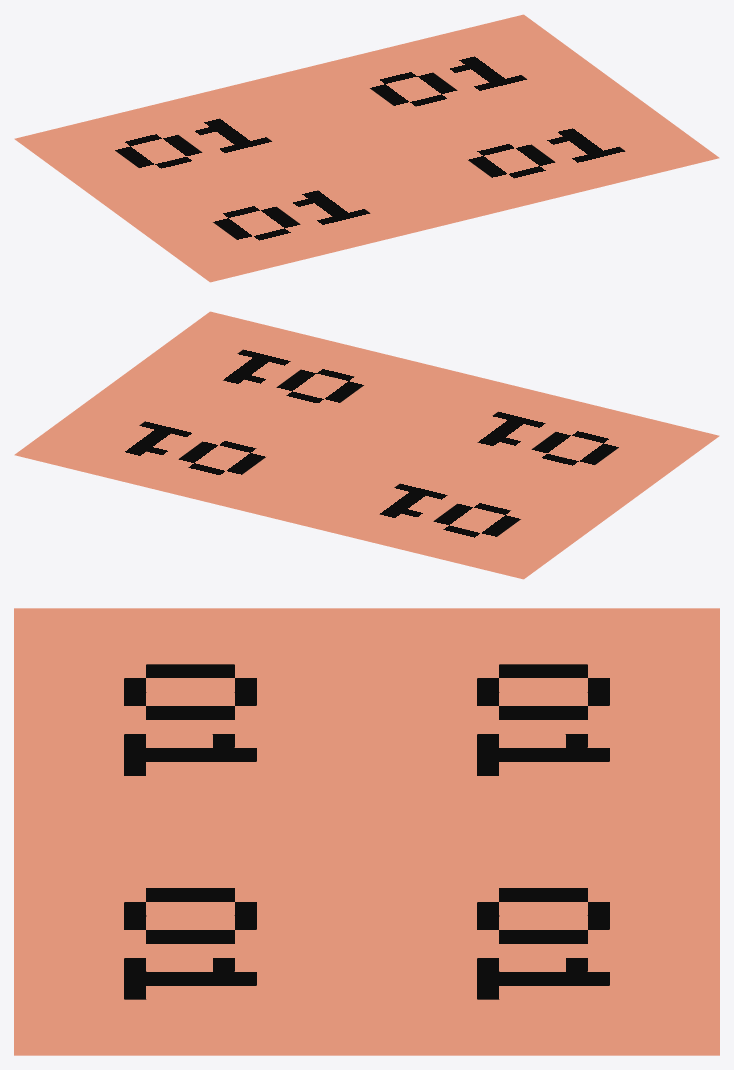
Rendered from pitch.glb.
3 renders of one model, top to bottom at view 1: azimuth 30°, elevation 25°; view 2: azimuth 150°, elevation 25°; view 3: azimuth 270°, elevation 25°, orthographic. The views are drawn at different scales.
Visible parts, largest first — view 1: pitch; view 2: pitch; view 3: pitch.
Boxes of the visible parts, x1=… form: pitch: x1=14, y1=14, x2=719, y2=282; pitch: x1=14, y1=311, x2=719, y2=579; pitch: x1=14, y1=608, x2=719, y2=1055.
Bounding box in the file's own units: 120 × 0 × 80.
1 material, 1 textured.
